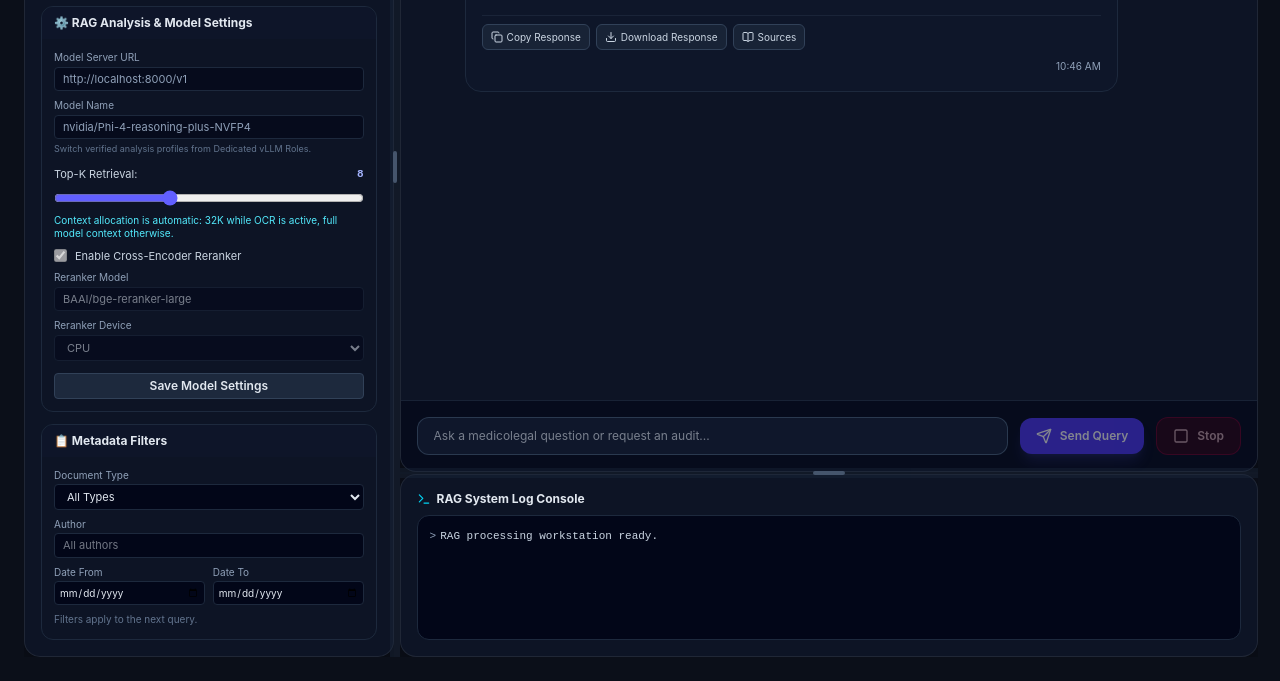
Scenario: RagChat Component › flushes streamed text and leaves the cleared composer settled when DONE completes
The image size is (1280, 681).
(page scrolled)
Type "Build a timeline" into the field with placeholder "Ask a medicolegal question or request an audit...". click: (712,436)
box: [417,417,1008,455]
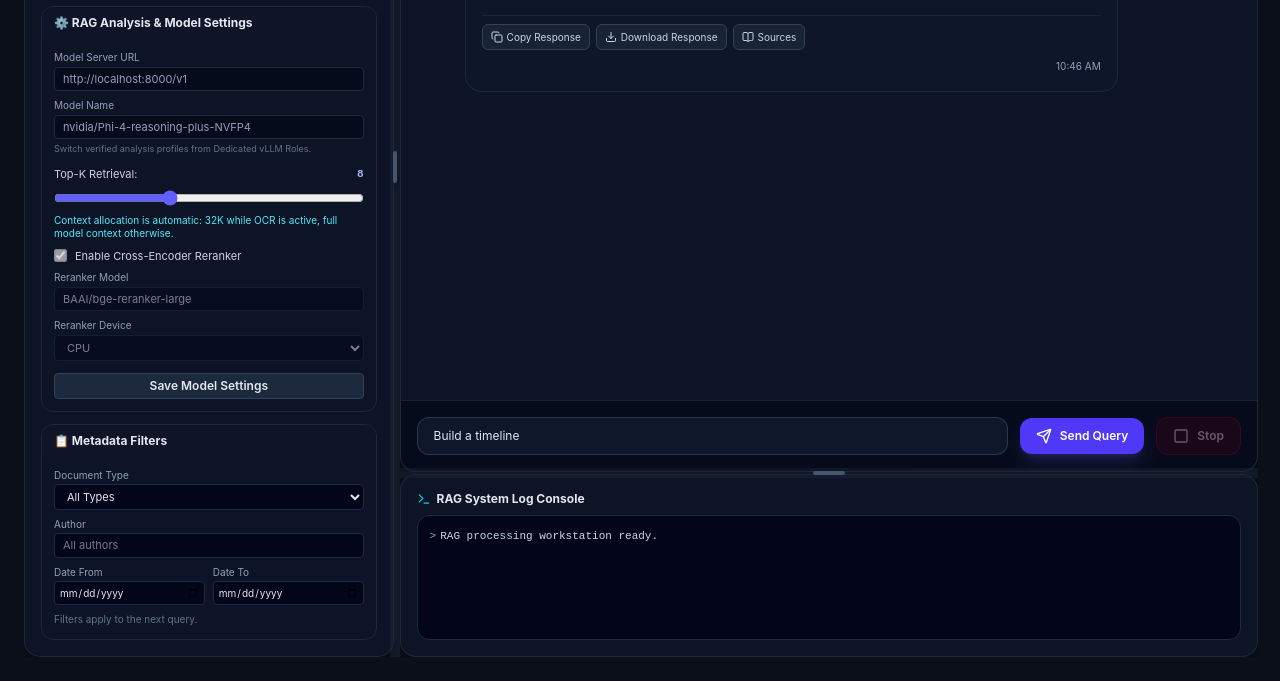
Click the button "Send Query". click: (1082,436)
box: [1020,418,1144,454]
(page scrolled)
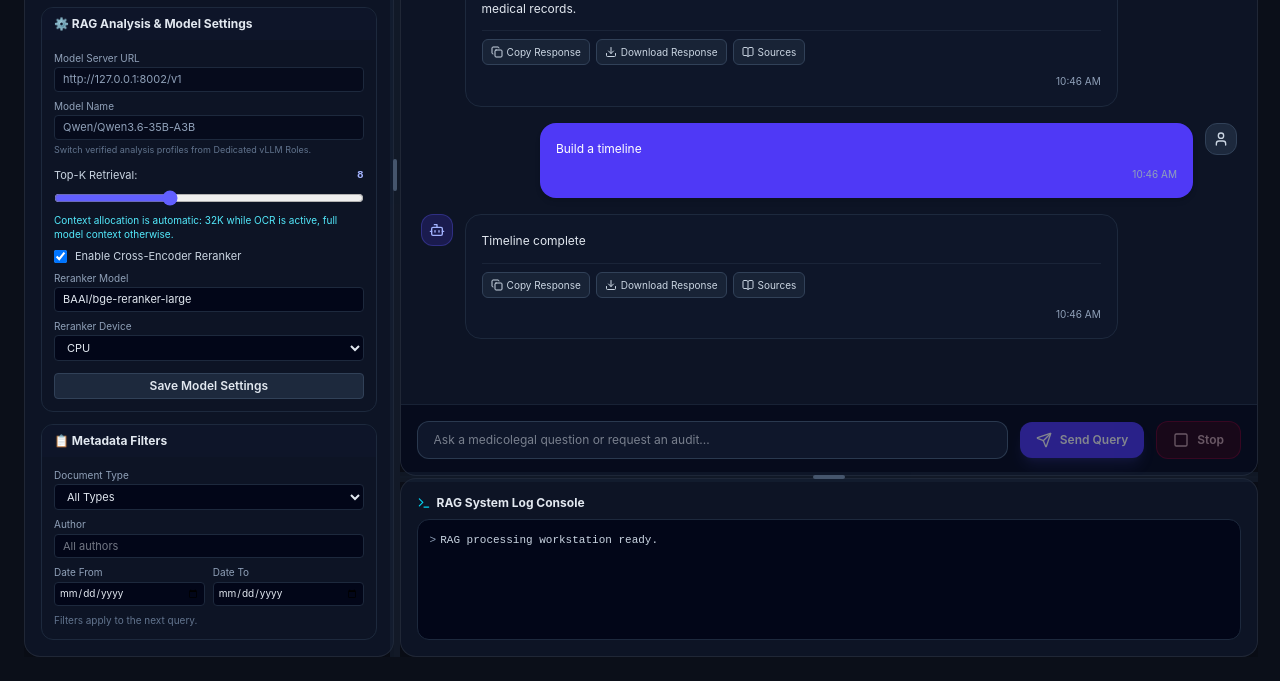
Check: the text "Timeline complete" is shown, box [482,233,586,248]
Check: the button "Send Query" is disabled, box [1020,422,1144,458]
